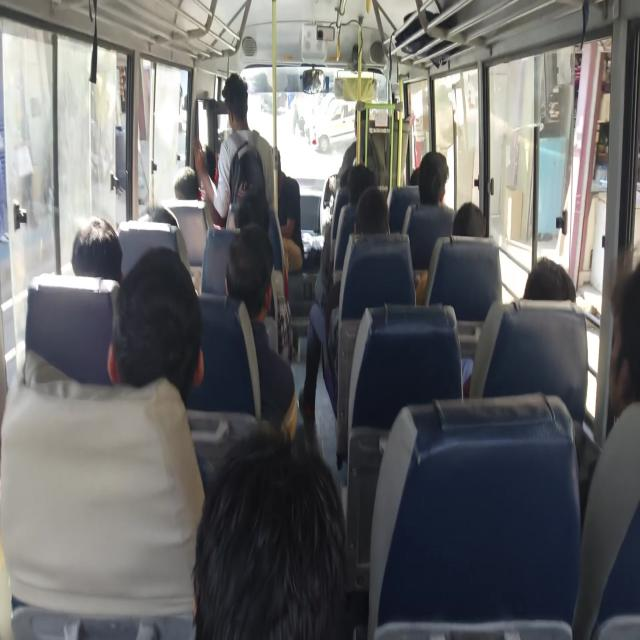person: (212, 444, 318, 590), (520, 245, 609, 368), (111, 259, 189, 382), (601, 282, 640, 460), (268, 122, 310, 266), (62, 208, 128, 284), (224, 229, 275, 301), (212, 87, 268, 149), (350, 187, 396, 246), (425, 138, 457, 220), (344, 148, 386, 202), (401, 150, 440, 201), (222, 189, 265, 229), (136, 204, 189, 235), (226, 175, 269, 213), (454, 198, 486, 246), (170, 160, 204, 197), (198, 134, 230, 172)
